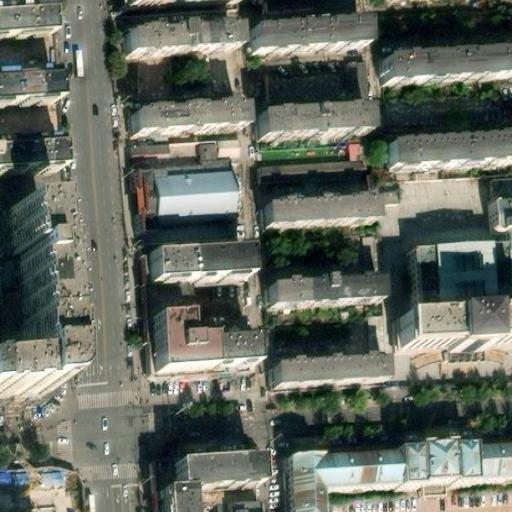building: (409, 242, 512, 308), (6, 215, 55, 333), (288, 463, 402, 512), (154, 169, 236, 230), (152, 321, 249, 372), (249, 18, 364, 61), (383, 47, 512, 85), (126, 99, 234, 139), (124, 22, 234, 60), (400, 456, 478, 509), (391, 151, 512, 184), (265, 192, 379, 227), (256, 105, 367, 139), (272, 352, 382, 386), (260, 71, 360, 108), (147, 249, 249, 284), (256, 156, 365, 187), (174, 465, 266, 501), (20, 330, 60, 406), (267, 273, 376, 300), (0, 469, 68, 512), (0, 144, 59, 177), (0, 102, 54, 138), (0, 73, 56, 107), (399, 320, 454, 354), (0, 4, 50, 39), (453, 319, 492, 360), (476, 454, 512, 495), (265, 0, 338, 16), (490, 318, 512, 352), (494, 198, 512, 231), (229, 496, 264, 512), (161, 500, 193, 512)
